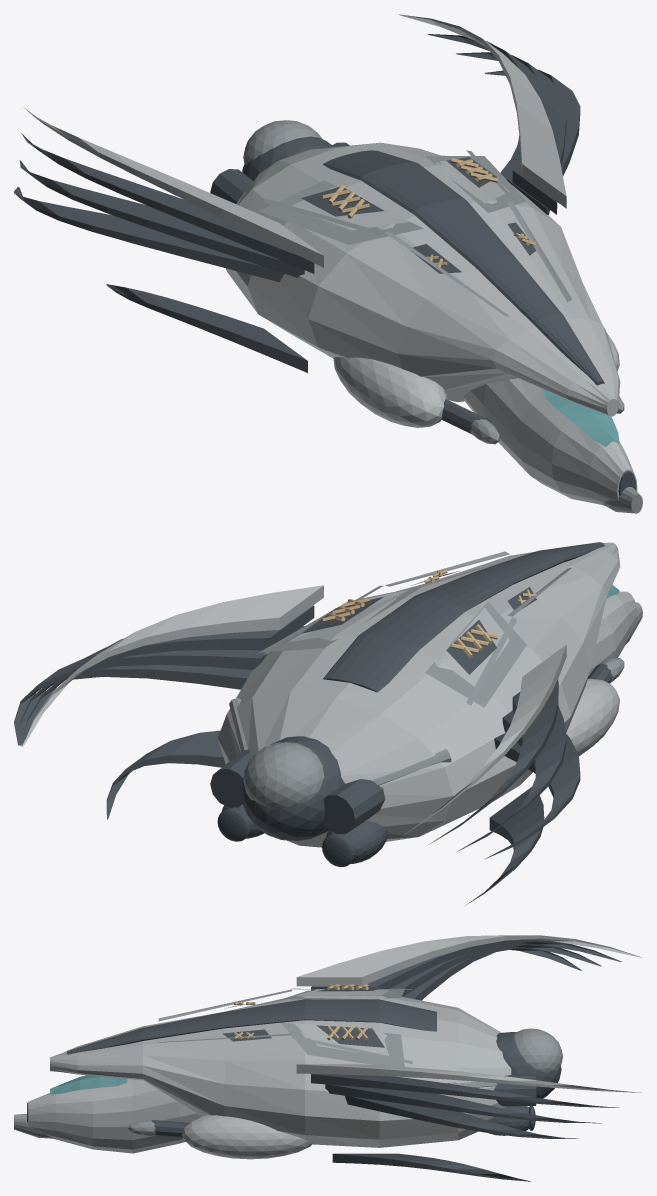
Rendered from thrill_silver_off.glb.
3 renders of one model, top to bottom at view 1: azimuth 30°, elevation 25°; view 2: azimuth 150°, elevation 25°; view 3: azimuth 270°, elevation 25°, orthographic. The views are drawn at different scales.
Parts seen in each view (by area): view 1: hull_0, hull_1, hull_2, wing_R_pivot_blade0, wing_L_pivot_blade0, wing_L_pivot_blade2, wing_L_pivot_blade1, wing_L_pivot_blade3, fin_L_pivot_blade1, wing_R_pivot_blade1, hull_3, wing_R_pivot_blade2 (+2 smaller); view 2: hull_0, hull_1, hull_2, wing_R_pivot_blade0, wing_R_pivot_blade1, wing_R_pivot_blade3, wing_L_pivot_blade0, wing_R_pivot_blade2, fin_R_pivot_blade1, fin_L_pivot_blade1, wing_L_pivot_blade1, wing_L_pivot_blade2 (+2 smaller); view 3: hull_0, hull_1, hull_2, wing_L_pivot_blade0, wing_R_pivot_blade1, wing_R_pivot_blade0, wing_R_pivot_blade2, wing_R_pivot_blade3, fin_R_pivot_blade1, wing_L_pivot_blade1, wing_L_pivot_blade2, wing_L_pivot_blade3 (+2 smaller).
Part boxes in pixels (box(x1,y1,x2,y2)): hull_0: box(225, 142, 637, 505); hull_1: box(210, 136, 636, 495); hull_2: box(236, 120, 642, 513); wing_R_pivot_blade0: box(399, 14, 566, 208); wing_L_pivot_blade0: box(23, 107, 323, 267); wing_L_pivot_blade2: box(19, 160, 304, 277); wing_L_pivot_blade1: box(21, 133, 314, 273); wing_L_pivot_blade3: box(14, 187, 284, 282); fin_L_pivot_blade1: box(106, 284, 307, 372); wing_R_pivot_blade1: box(427, 34, 558, 214); hull_3: box(542, 389, 619, 447); wing_R_pivot_blade2: box(456, 52, 566, 214); hull_0: box(217, 542, 637, 847); hull_1: box(210, 542, 612, 866); hull_2: box(229, 551, 642, 808); wing_R_pivot_blade0: box(22, 585, 323, 746); wing_R_pivot_blade1: box(21, 605, 314, 746); wing_R_pivot_blade3: box(14, 660, 252, 745); wing_L_pivot_blade0: box(400, 644, 566, 837); wing_R_pivot_blade2: box(19, 626, 304, 745); fin_R_pivot_blade1: box(106, 730, 225, 819); fin_L_pivot_blade1: box(465, 787, 544, 905); wing_L_pivot_blade1: box(428, 679, 558, 844); wing_L_pivot_blade2: box(457, 706, 566, 851); hull_0: box(28, 989, 511, 1159); hull_1: box(27, 986, 561, 1137); hull_2: box(14, 988, 562, 1138); wing_L_pivot_blade0: box(296, 935, 641, 986); wing_R_pivot_blade1: box(311, 1074, 619, 1107); wing_R_pivot_blade0: box(296, 1064, 641, 1092); wing_R_pivot_blade2: box(325, 1084, 601, 1123); wing_R_pivot_blade3: box(345, 1095, 577, 1138); fin_R_pivot_blade1: box(332, 1153, 531, 1181); wing_L_pivot_blade1: box(311, 939, 621, 990); wing_L_pivot_blade2: box(390, 943, 601, 996); wing_L_pivot_blade3: box(404, 946, 581, 1000).
Bounding box in the file's own units: 3.07 × 1.12 × 4.39.
